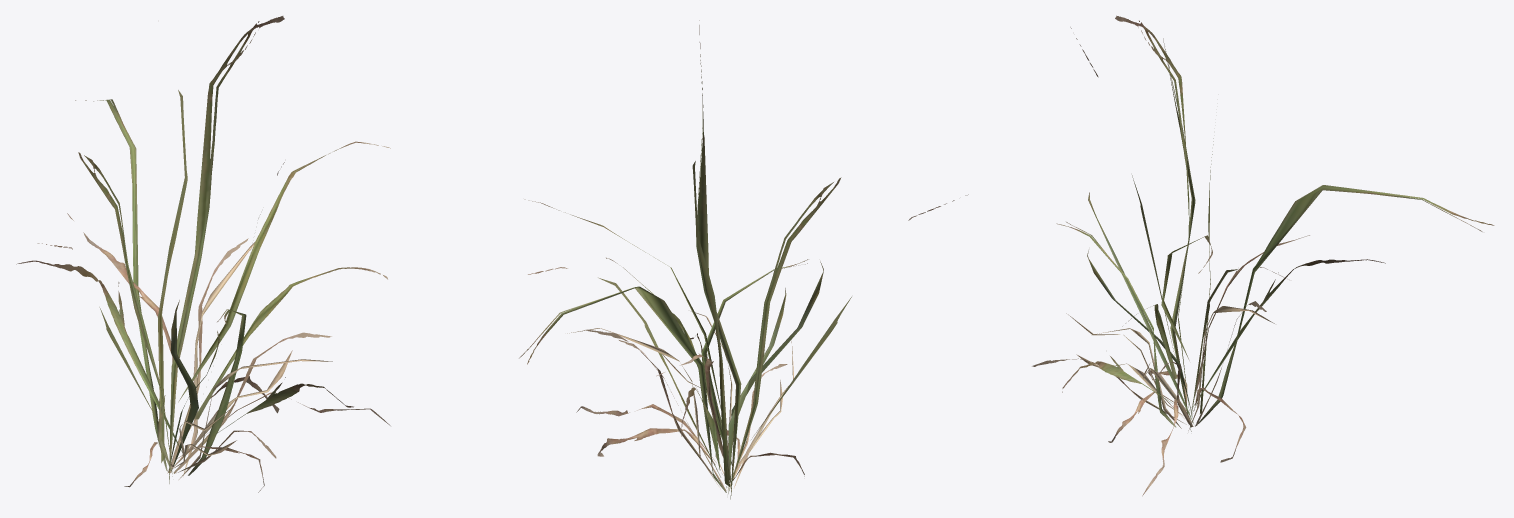
3 views of the same model, side by side, from view 1: azimuth 30°, elevation 25°; view 2: azimuth 150°, elevation 25°; view 3: azimuth 270°, elevation 25° (orthographic). The views are drawn at different scales.
Parts seen in each view (by area): view 1: grass_medium_02__c_lod1; view 2: grass_medium_02__c_lod1; view 3: grass_medium_02__c_lod1.
Part boxes in pixels (<box>): grass_medium_02__c_lod1: <box>16,16,390,492</box>; grass_medium_02__c_lod1: <box>519,20,968,499</box>; grass_medium_02__c_lod1: <box>1032,15,1494,496</box>.
Size of the model in its own units: 0.2304 by 0.2437 by 0.2421.
Materials: 1 (1 with a texture image).
